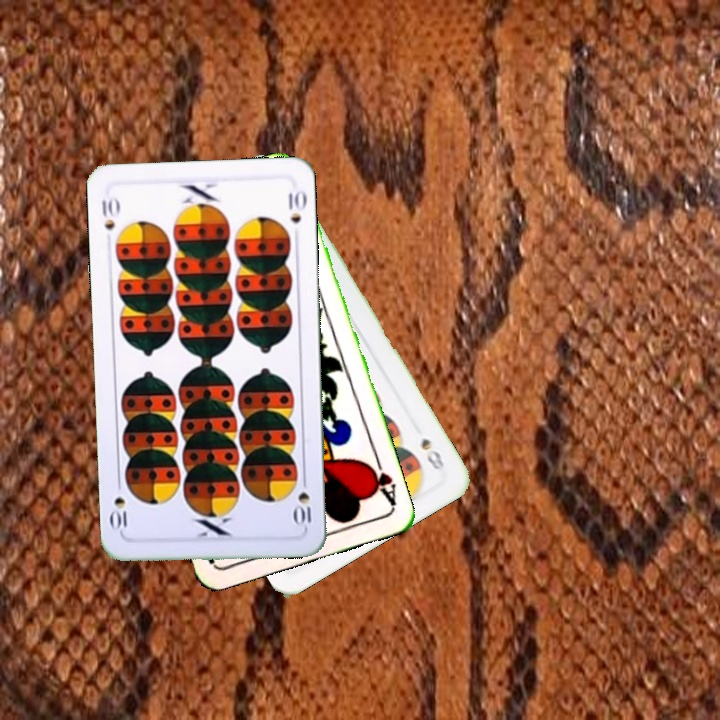HA: (362, 451, 399, 508)
S10: (292, 471, 314, 531), (98, 193, 122, 232)
S8: (416, 433, 447, 473)
